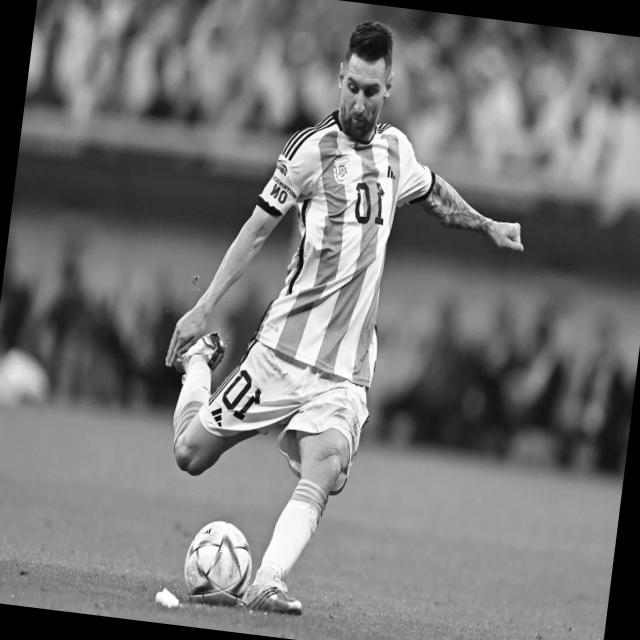football: (182, 521, 251, 606)
